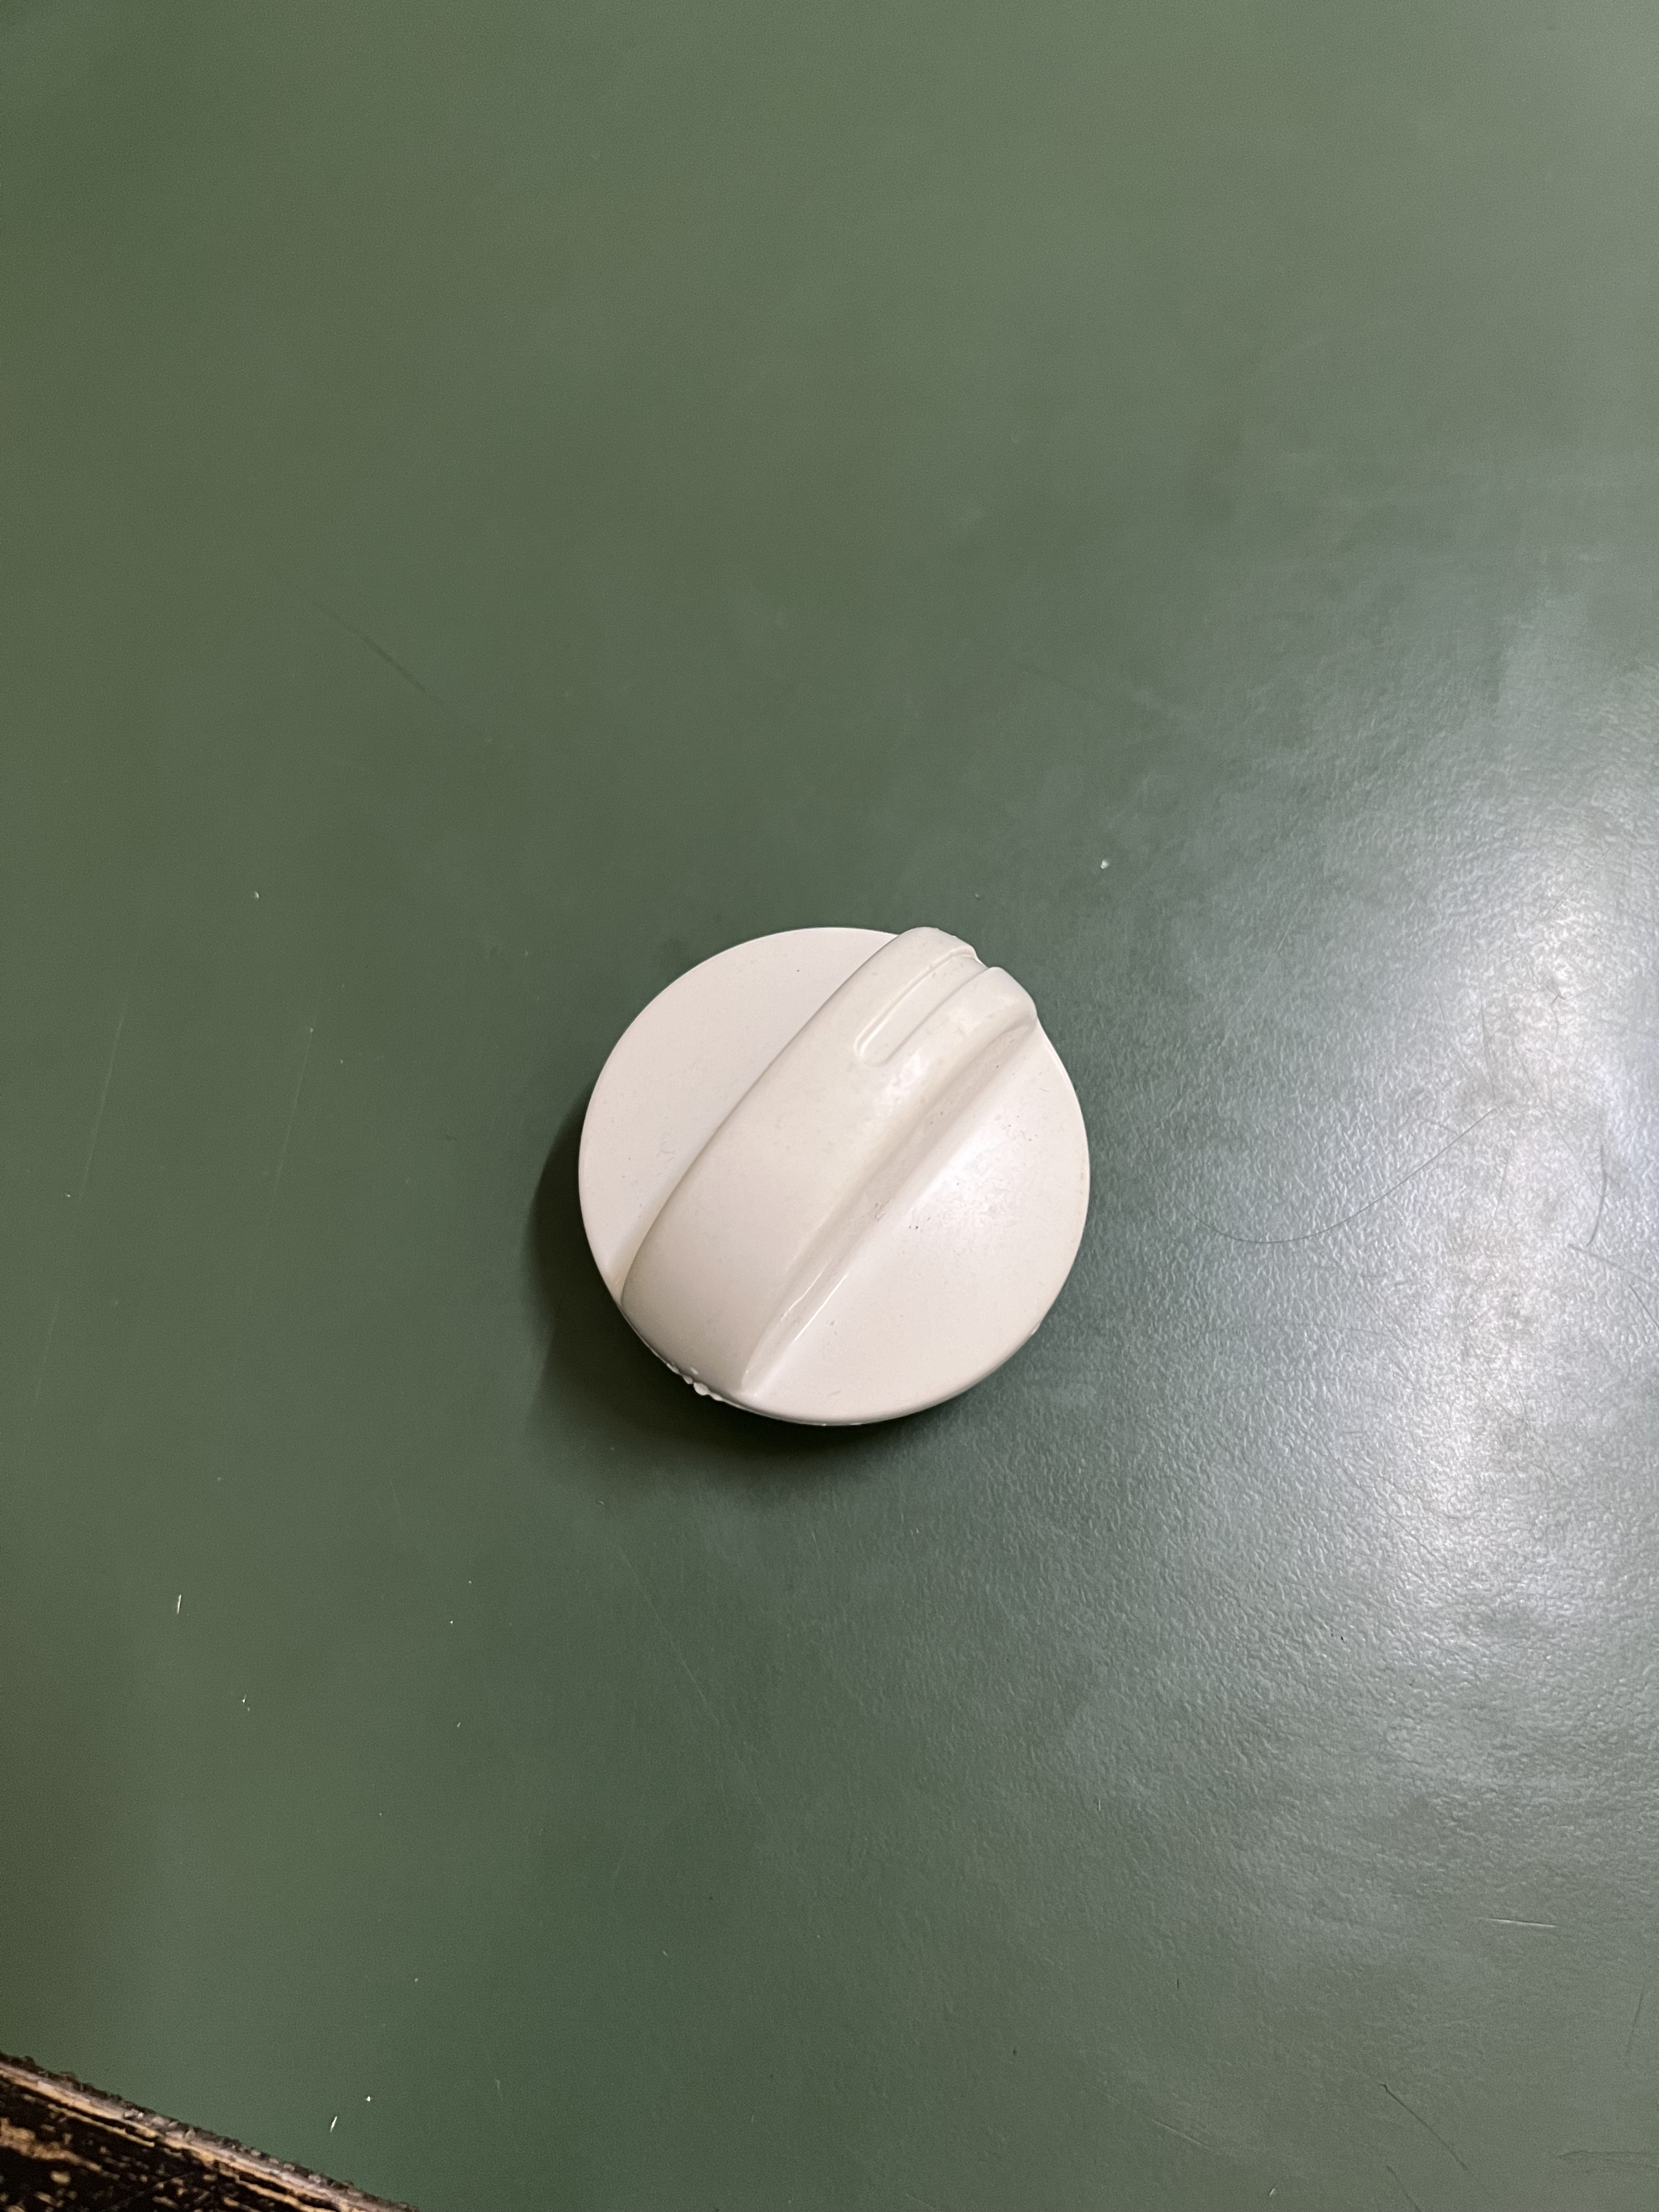regulator: (556, 888, 1094, 1449)
